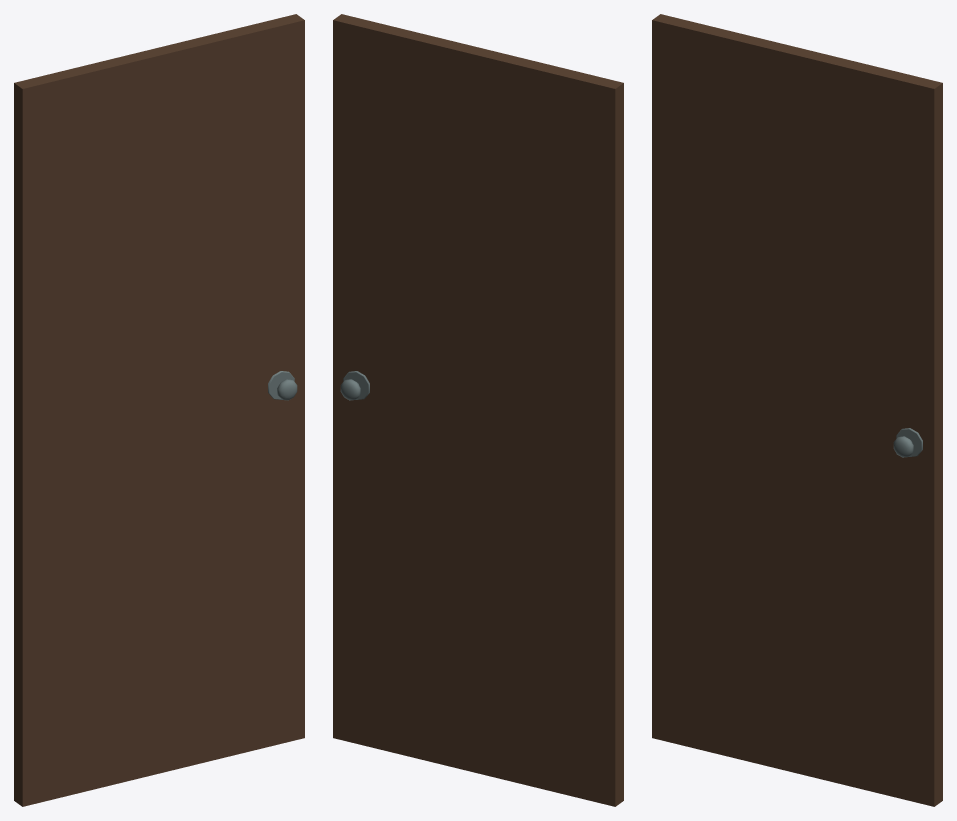
File: Doorway_Int_Door1.fbx
The picture shows the model from 3 angles, left to right: view 1: azimuth 30°, elevation 25°; view 2: azimuth 150°, elevation 25°; view 3: azimuth 330°, elevation 25°; orthographic projection.
Visible parts, largest first — view 1: Door (Interior); view 2: Door (Interior); view 3: Door (Interior).
Boxes of the visible parts, <box> form: Door (Interior): <box>14,14,304,806</box>; Door (Interior): <box>333,14,623,806</box>; Door (Interior): <box>652,14,942,806</box>.
Bounding box in the file's own units: 81.57 × 198 × 13.96.
